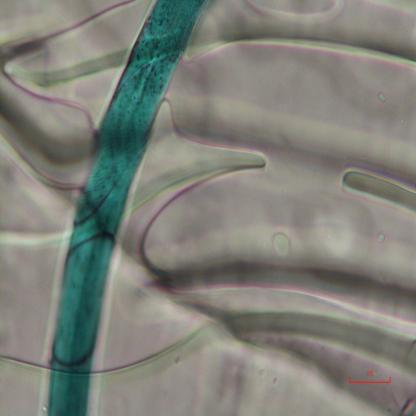Background material: (114, 249, 416, 398), (203, 2, 416, 98), (0, 0, 92, 190), (149, 102, 283, 225), (336, 154, 416, 226), (262, 228, 294, 260)
Microfibre: (42, 0, 209, 415)
